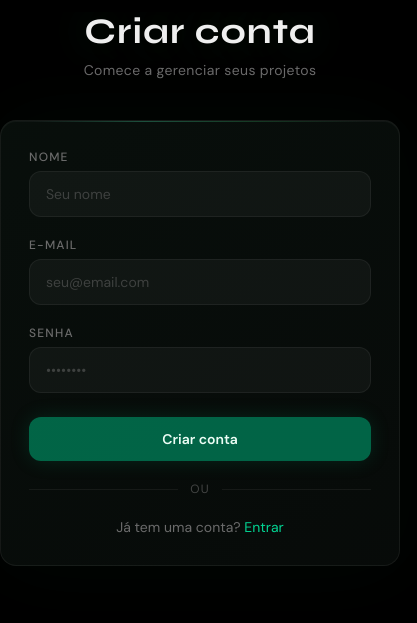
Scenario: RegisterPage › shows API error message on failure
Step 1. Type "Junior Almeida" into the field labelled "Nome" → (200, 194), box x1=29 y1=171 x2=371 y2=217
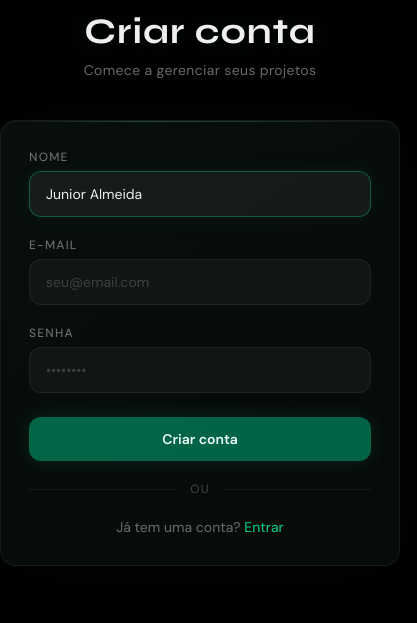
Step 2. Type "junior@email.com" into the field labelled "E-mail" → (200, 282), box x1=29 y1=259 x2=371 y2=305
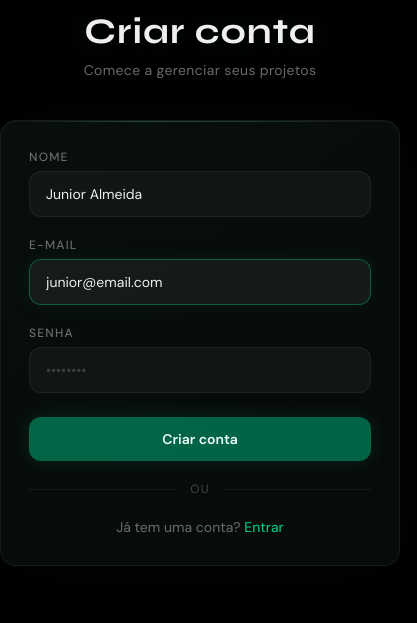
Step 3. Type "Test1234" into the password field labelled "Senha" → (200, 370), box x1=29 y1=347 x2=371 y2=393
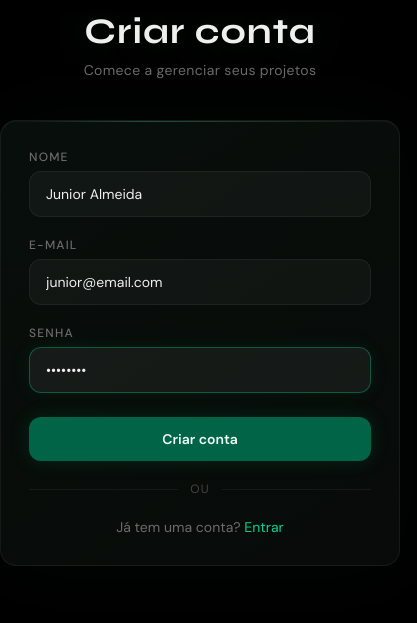
Step 4. Click the button "Criar conta" → click(200, 439), box x1=29 y1=417 x2=371 y2=461
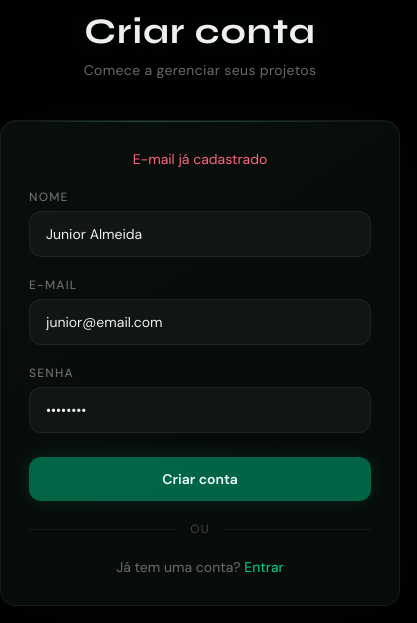
Expected: the text "E-mail já cadastrado" is shown, x1=133 y1=150 x2=267 y2=168
